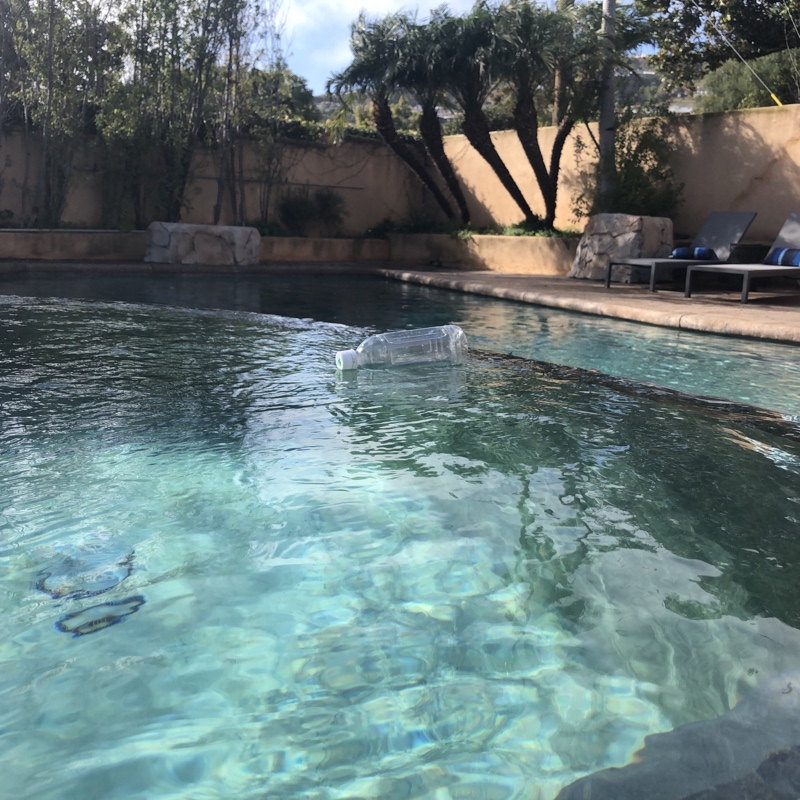Plastic Bottle: (333, 321, 473, 377)
